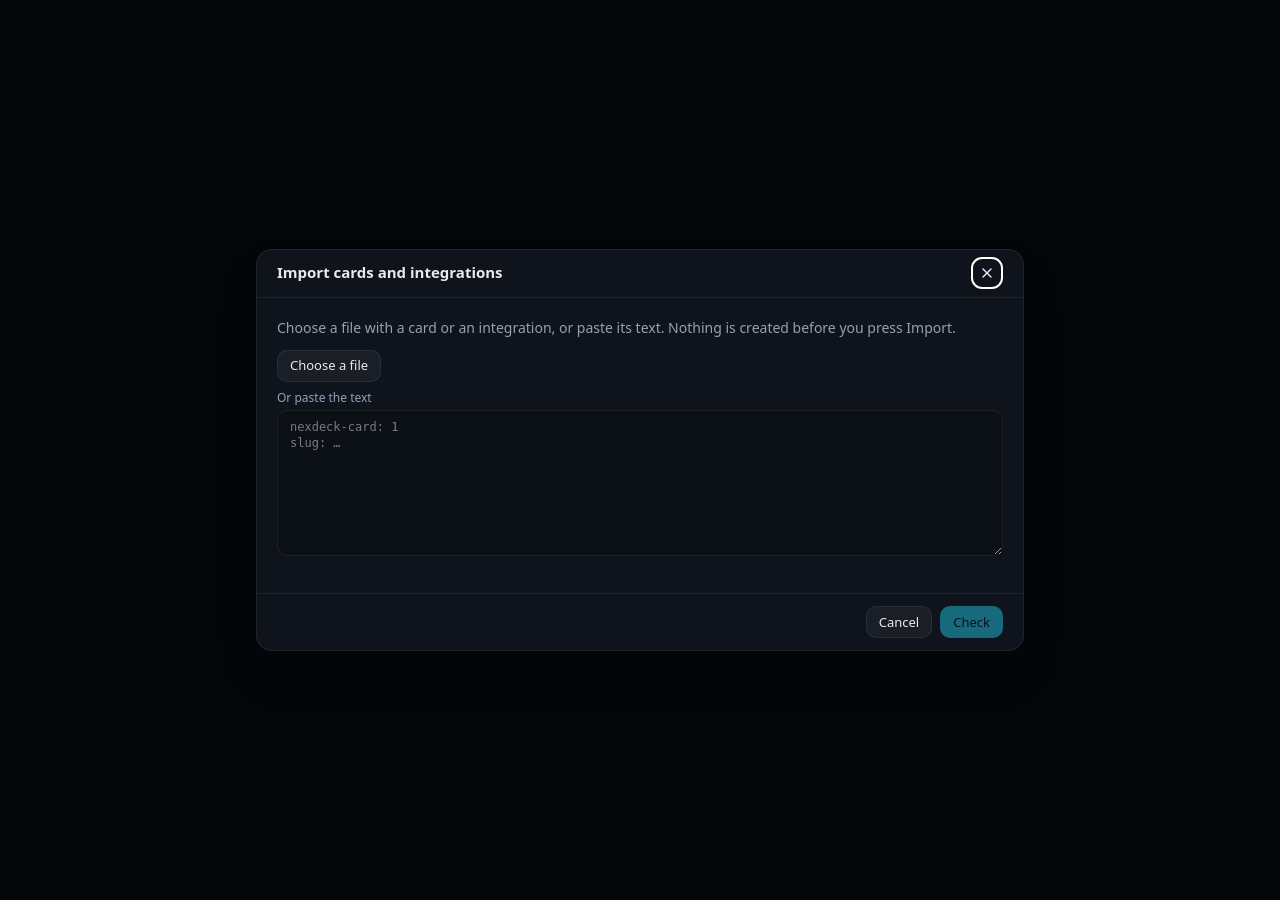
Test case: a file that is not right › karten12 ec1: shows each problem with its line in the file and does not allow the import
The width and height of the screenshot is (1280, 900).
Click the text box labelled "Or paste the text". click: [640, 483]
box: [277,410,1003,556]
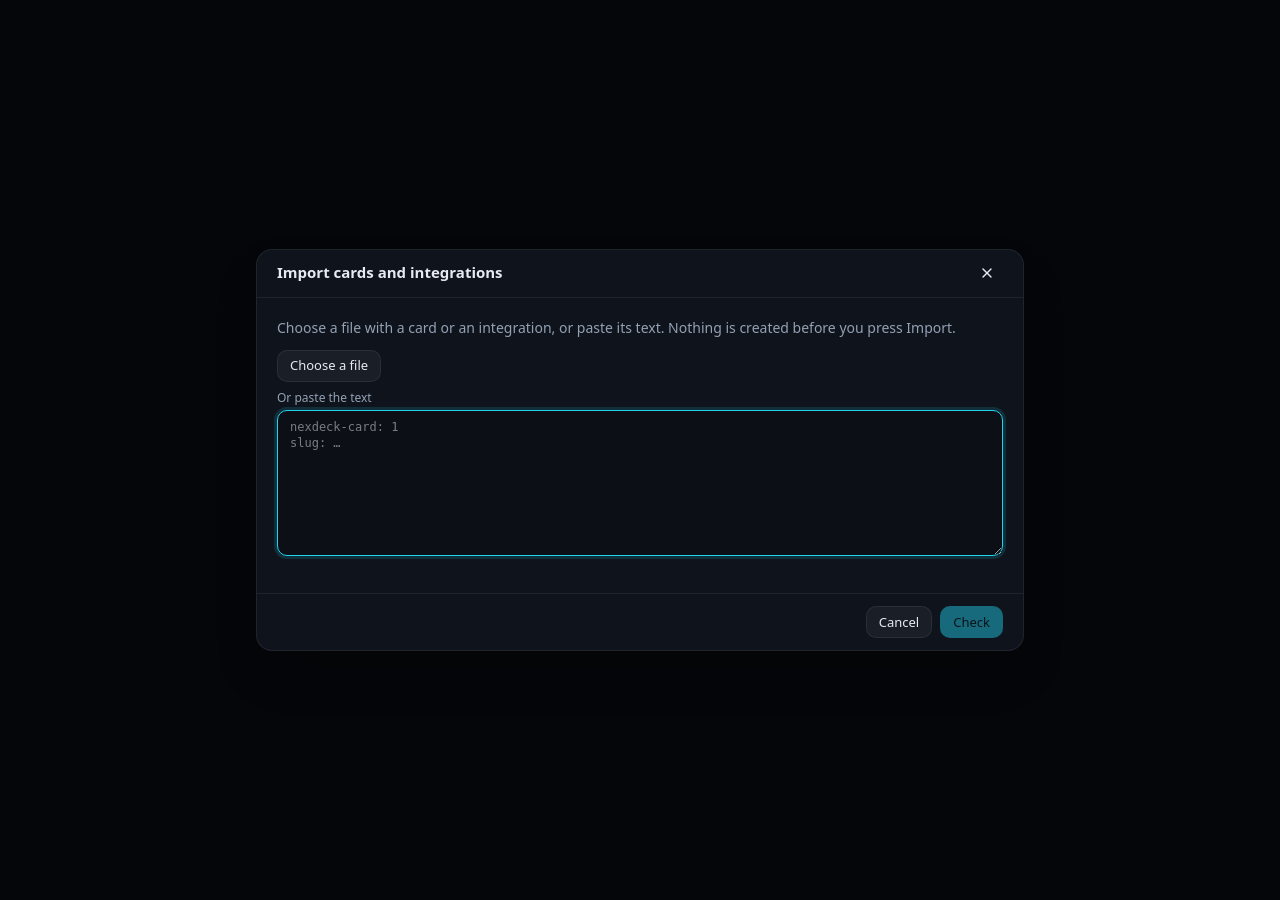
Type keys "nexdeck-card: 1 slug: queue name: Queue requires: [custom:memos] form: value value: {path: total, label: Waiting} demo:   main: {total: 3} "
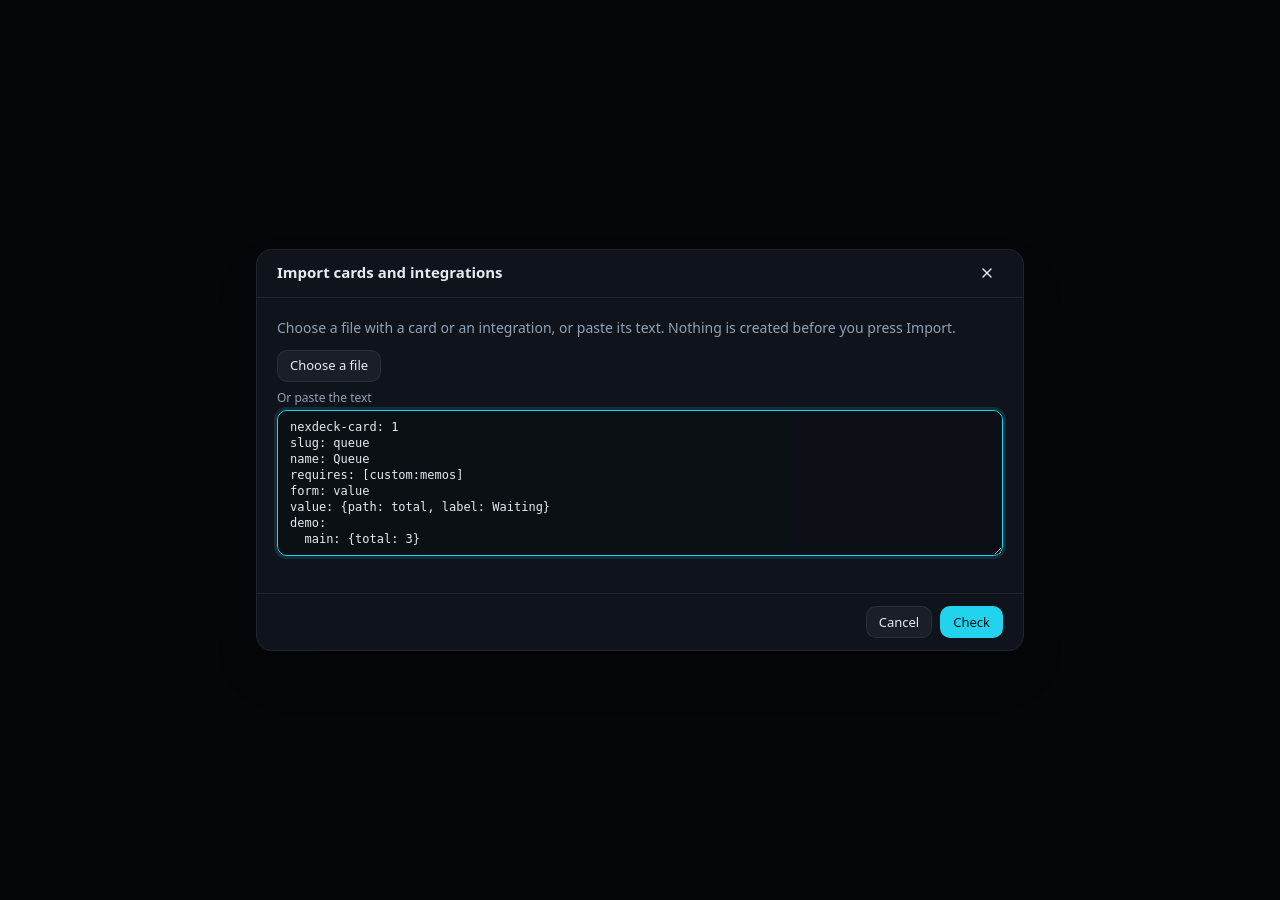
Click the button "Check". click: [972, 622]
box: [940,606,1003,638]
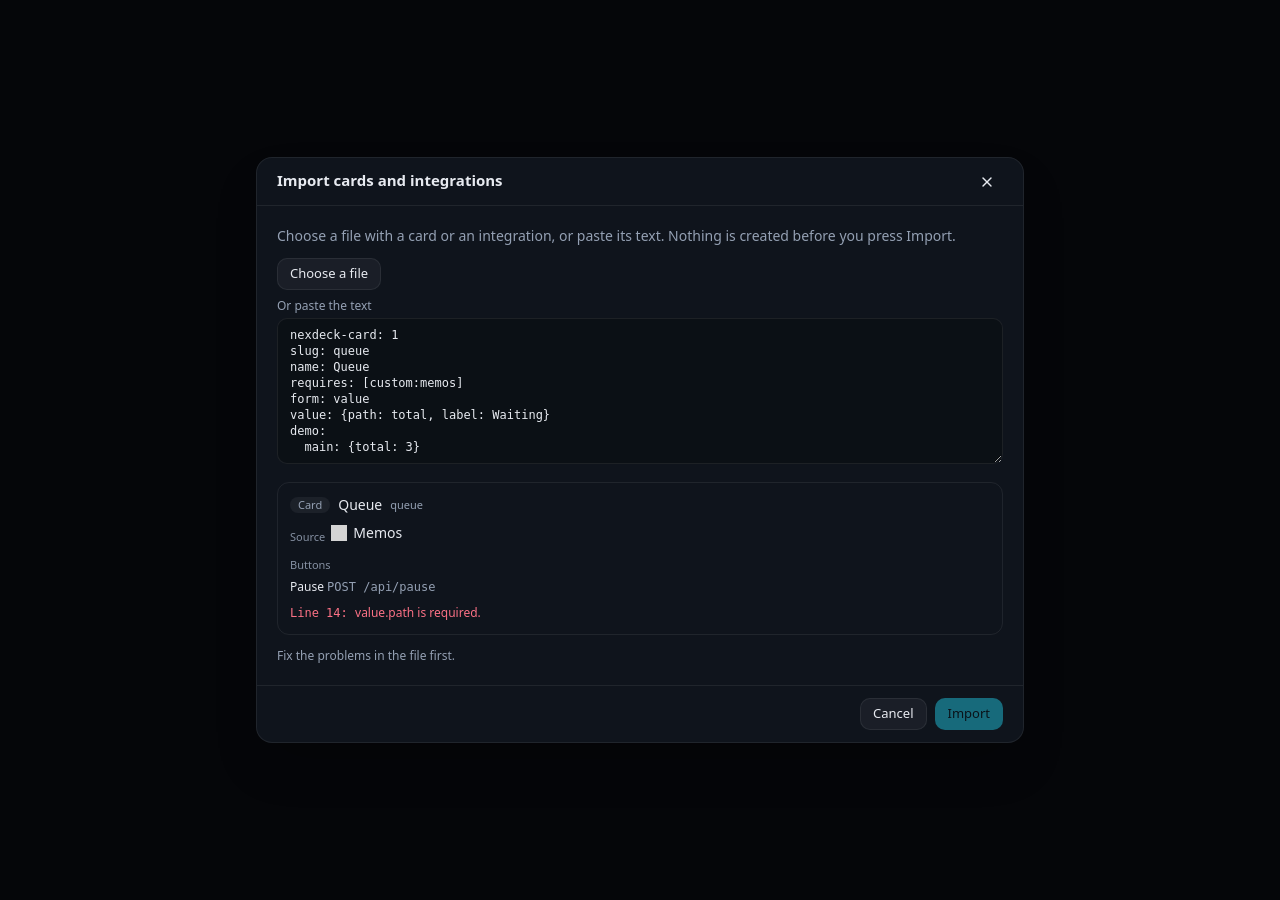
Expected: the list with test id "import-problems" reads "Line 14: value.path is required.", [290,604,481,621]
Expected: the button "Import" is disabled, [934,698,1003,730]
Expected: the text "Fix the problems in the file first." is shown, [277,647,455,664]
